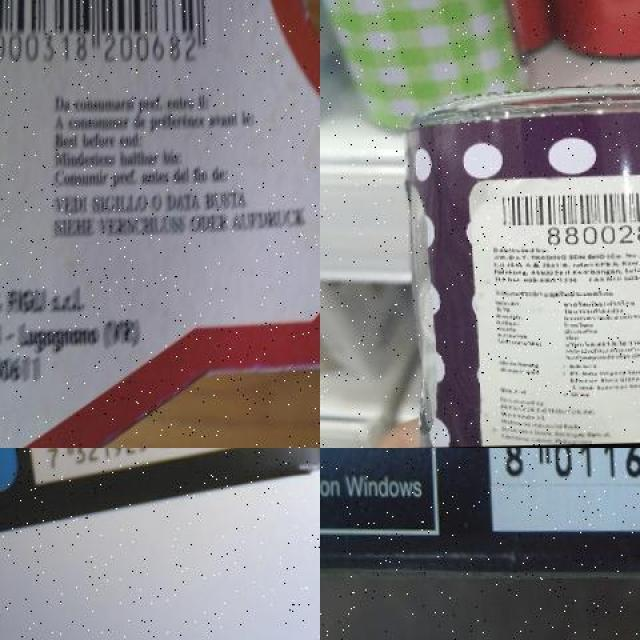Barcode: (0, 0, 229, 90), (474, 448, 640, 540), (484, 184, 640, 251)
